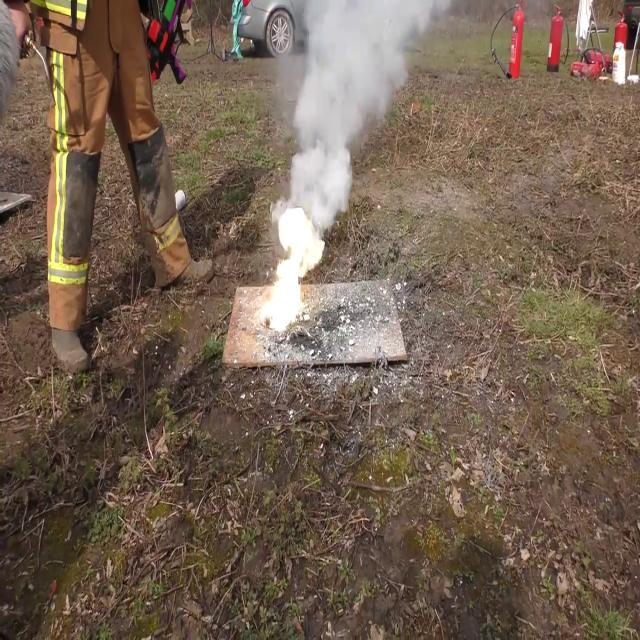Fire: (255, 207, 321, 334)
Smoke: (278, 0, 463, 219)
